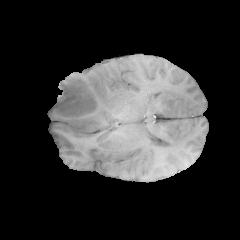glioma: (50, 73, 117, 133)
